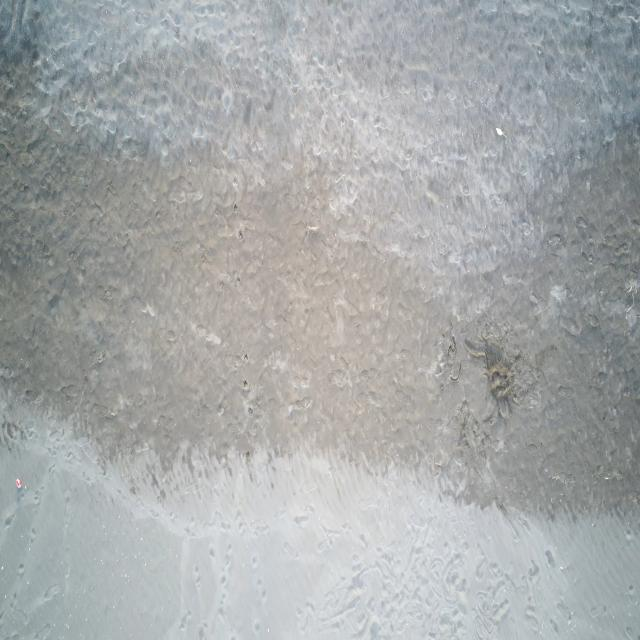tin-and-aluminum-cans: (14, 479, 20, 491)
